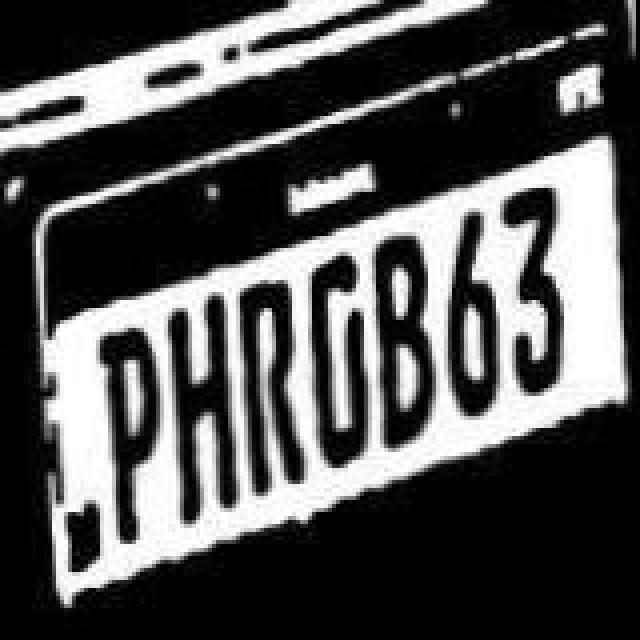3: (496, 178, 568, 398)
6: (444, 208, 508, 420)
B: (368, 228, 440, 456)
D: (304, 246, 376, 474)
H: (164, 304, 248, 524)
P: (94, 334, 170, 554)
R: (236, 272, 312, 496)
